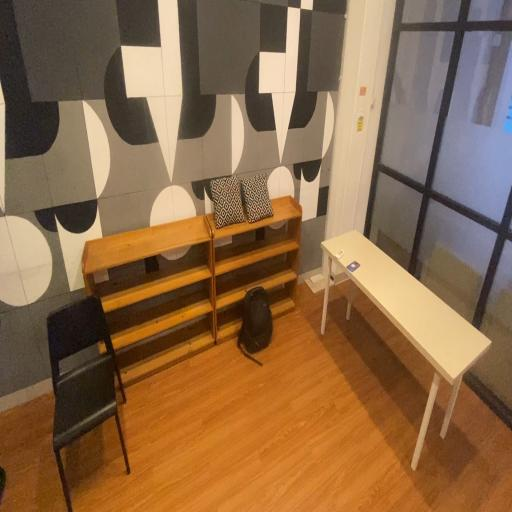bantal: (206, 168, 248, 232), (240, 166, 275, 225)
hp: (345, 248, 363, 282)
kursi: (44, 288, 136, 512)
lemari: (76, 208, 216, 393), (202, 186, 308, 347)
meja: (318, 225, 495, 485)
remote AC: (334, 243, 344, 264)
tas ransel: (241, 285, 275, 367)
